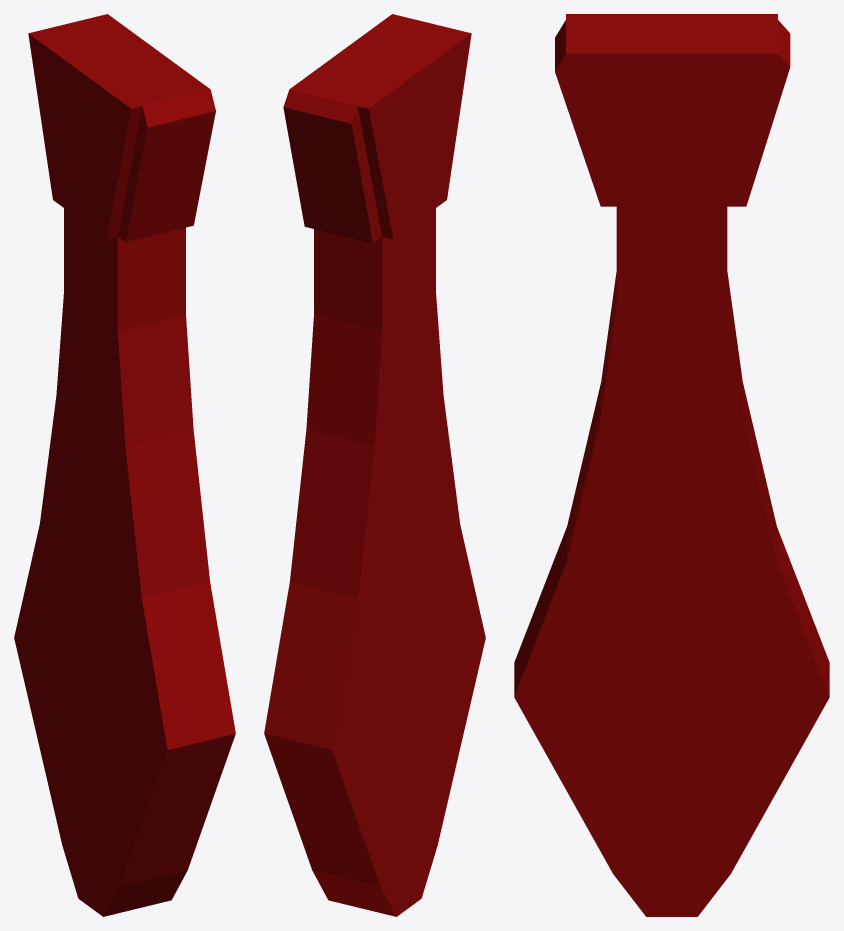
Rendered from tie2.fbx.
3 views of the same model, side by side, from view 1: azimuth 30°, elevation 25°; view 2: azimuth 150°, elevation 25°; view 3: azimuth 270°, elevation 25° (orthographic). The views are drawn at different scales.
Parts seen in each view (by area): view 1: pCube2; view 2: pCube2; view 3: pCube2.
Part boxes in pixels (x1,y1,x2,y2): pCube2: [14, 14, 235, 916]; pCube2: [264, 14, 485, 916]; pCube2: [514, 14, 829, 916].
Bounding box in the file's own units: 0.2642 × 2.67 × 0.8853.
